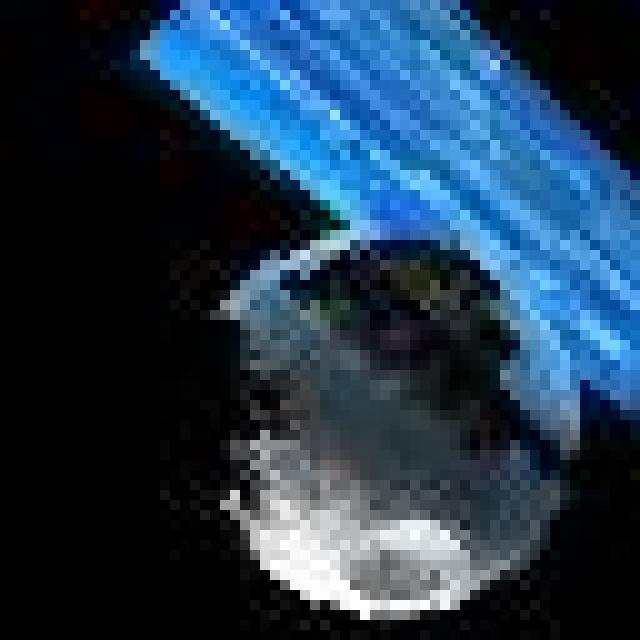Death Star: (195, 228, 604, 635)
